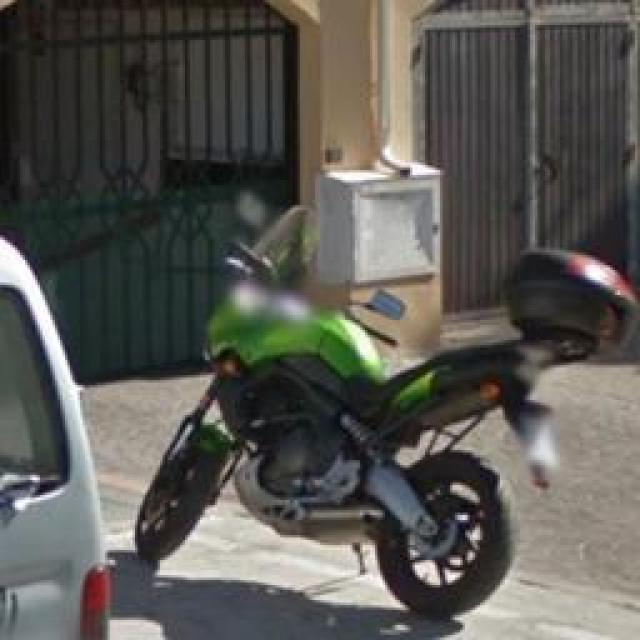motorcycle: (132, 205, 632, 620)
